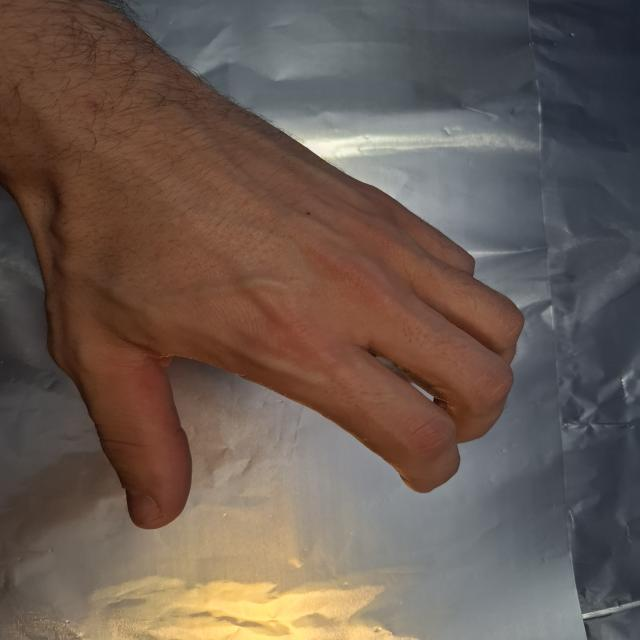glove_off: (10, 121, 526, 532)
